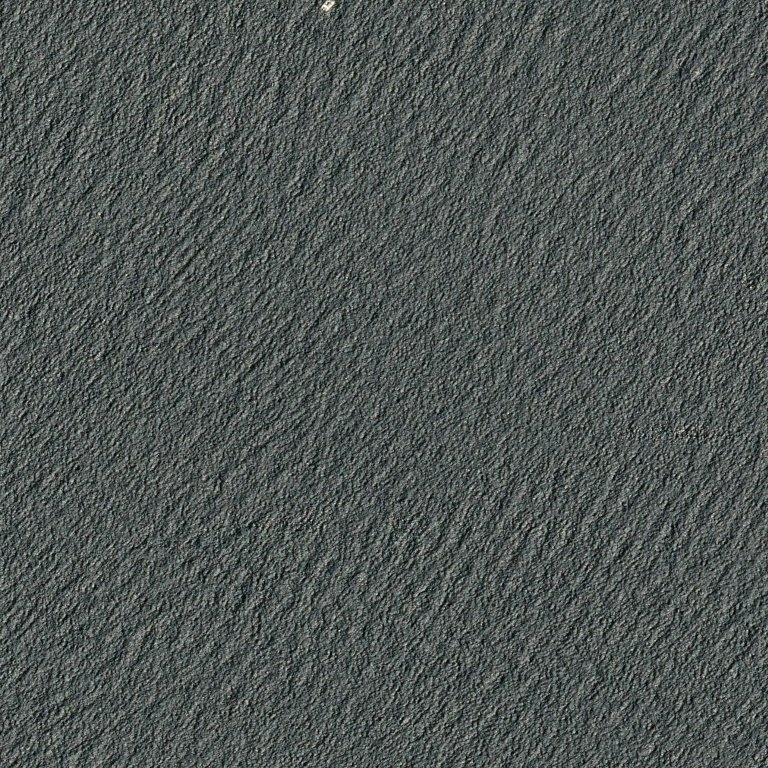ship: (317, 0, 338, 16)
